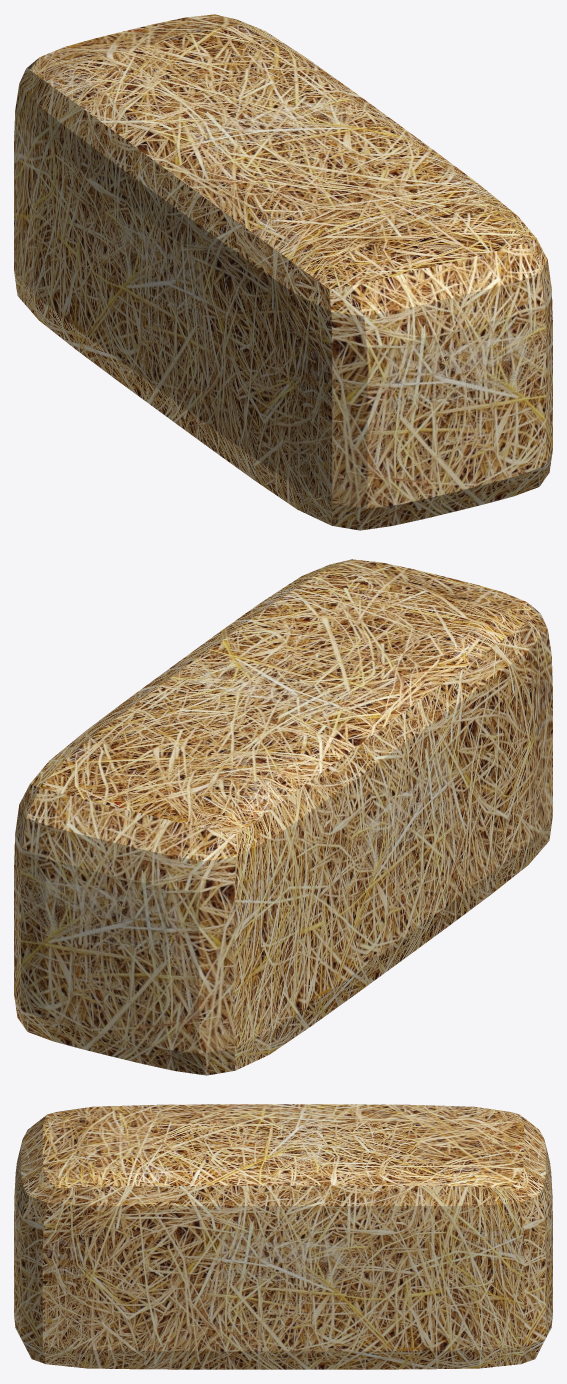
Rendered from straw.fbx.
The picture shows the model from 3 angles, top to bottom: view 1: azimuth 30°, elevation 25°; view 2: azimuth 150°, elevation 25°; view 3: azimuth 270°, elevation 25°; orthographic projection. The views are drawn at different scales.
Visible parts, largest first — view 1: Cube; view 2: Cube; view 3: Cube.
Boxes of the visible parts, x1=… form: Cube: x1=14, y1=14, x2=552, y2=530; Cube: x1=14, y1=559, x2=552, y2=1075; Cube: x1=14, y1=1104, x2=552, y2=1369.
Bounding box in the file's own units: 200 × 200 × 500.
